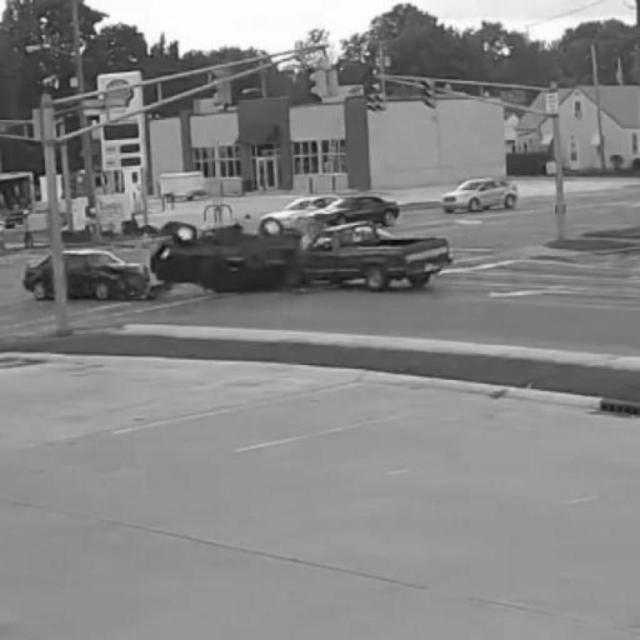accident: (156, 224, 450, 295)
vehicle: (23, 245, 151, 301), (302, 192, 404, 226), (436, 173, 522, 211)
